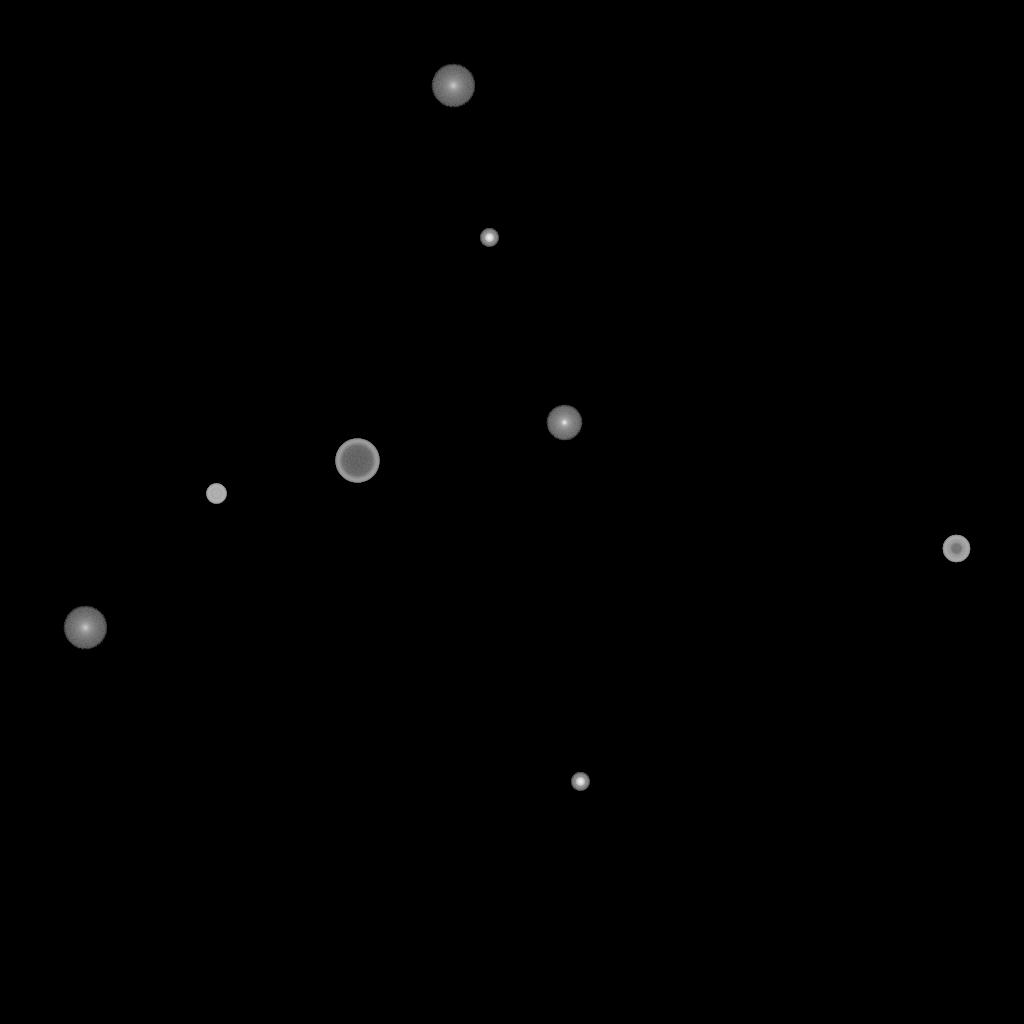depth:-20: (571, 773, 589, 791), (480, 229, 498, 247)
depth:-40: (206, 484, 226, 504)
depth:-50: (942, 535, 970, 563)
depth:-70: (335, 439, 379, 483)
depth:0: (546, 405, 582, 441)
depth:10: (63, 606, 107, 650), (431, 64, 475, 108)
